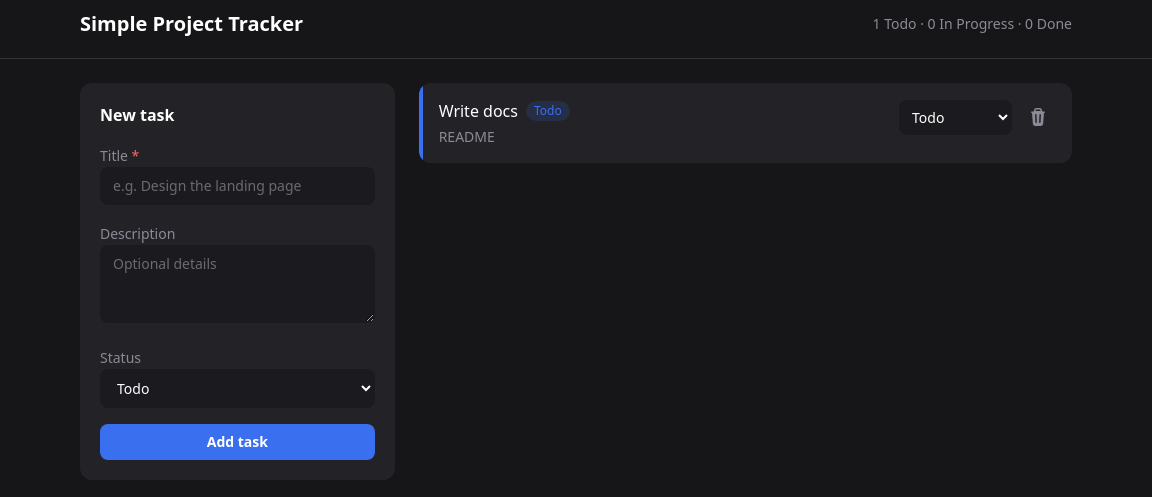
Test: updating and deleting › changes a task's status with PUT and updates the list
Select "Done" in the dropdown named "Status for Write docs": (956, 117) [899, 100, 1012, 134]
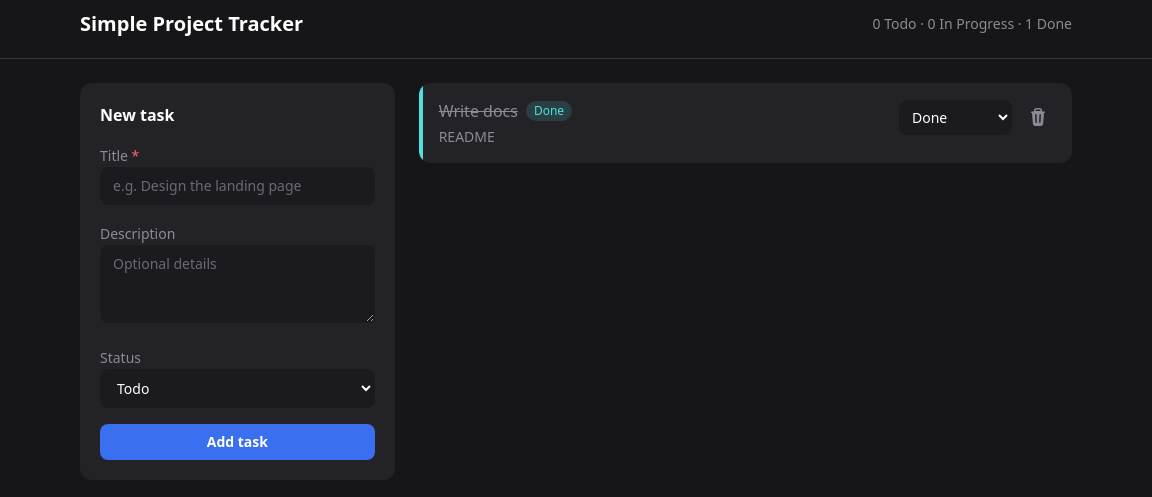
expect the text "Done" is shown: met, box [526, 101, 572, 121]
